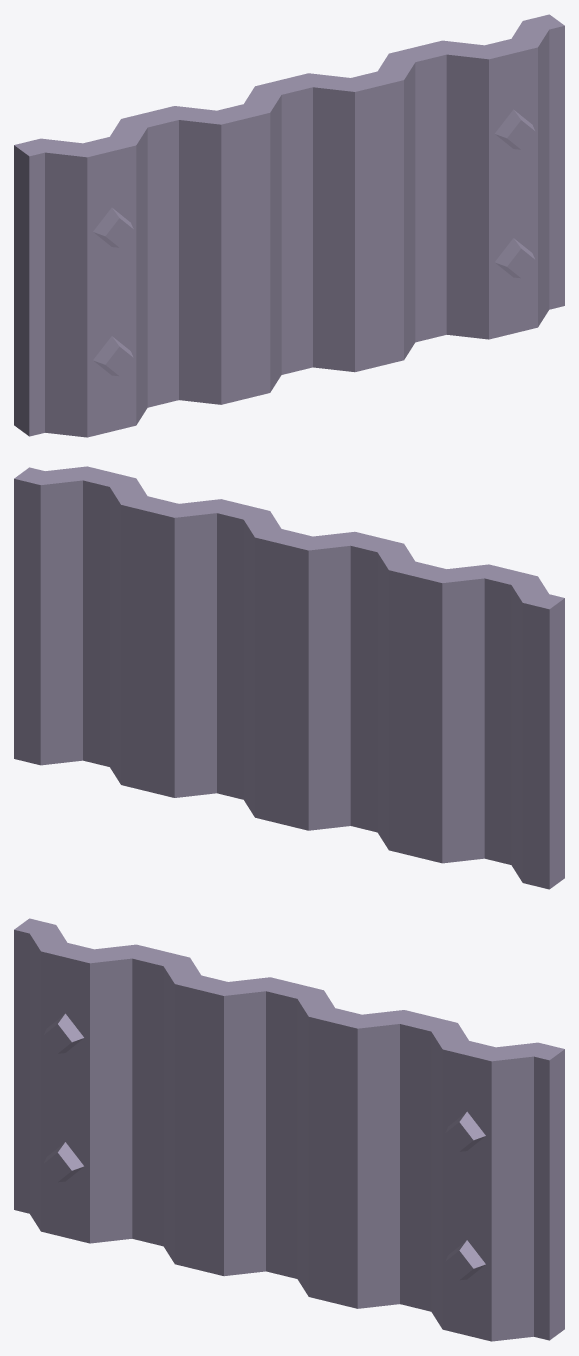
The model's file is metal-panel-screws-half.obj.
3 views of the same model, one above another, from view 1: azimuth 30°, elevation 25°; view 2: azimuth 150°, elevation 25°; view 3: azimuth 330°, elevation 25° (orthographic).
Bounding box in the file's own units: 0.5 × 0.25 × 0.0625.
